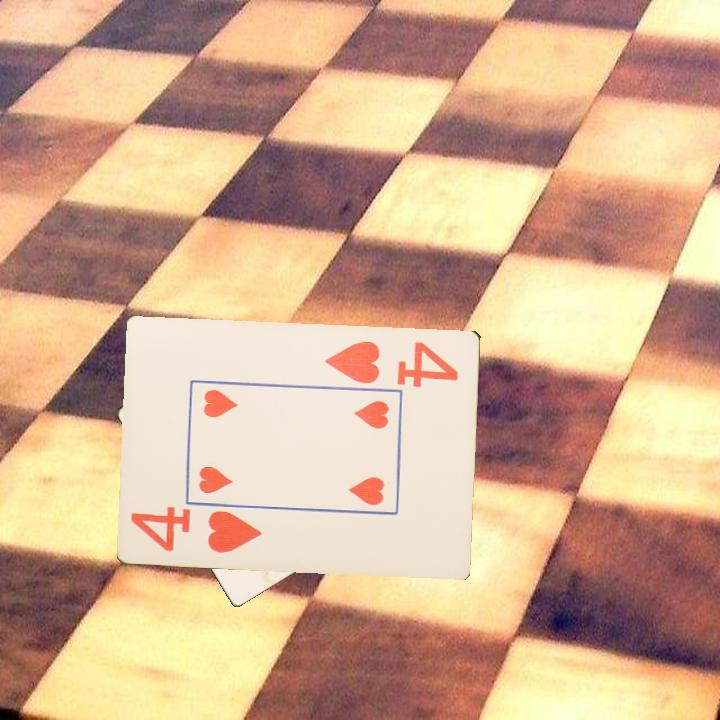4h: (322, 336, 462, 389), (128, 505, 265, 555)
